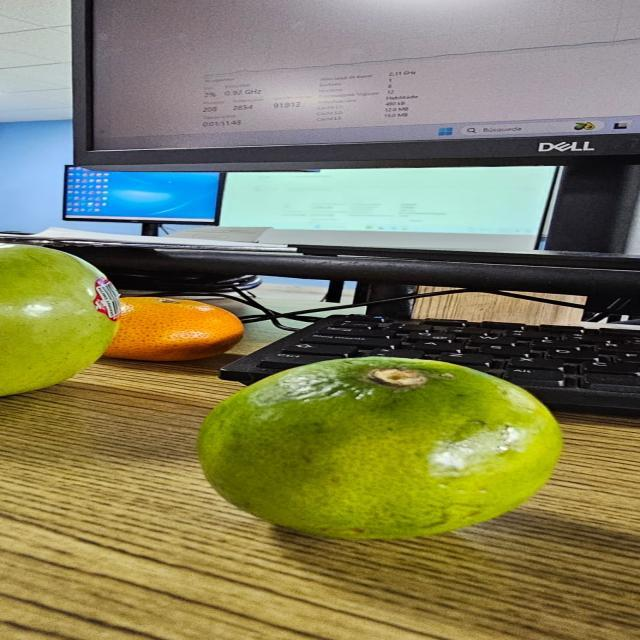Apel Granny Smith: (0, 241, 144, 396)
Jeruk Mandarin: (70, 295, 250, 367)
Lemon: (173, 350, 595, 552)
